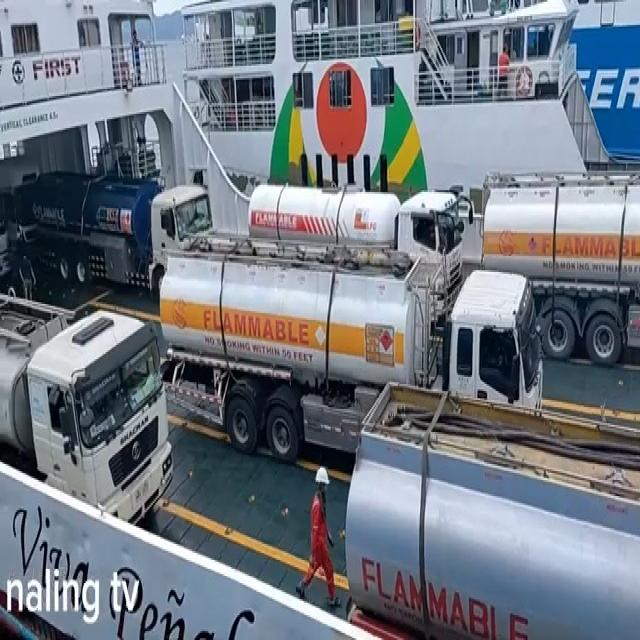truck: (160, 246, 544, 464), (344, 378, 640, 640), (0, 293, 175, 531), (247, 184, 464, 334), (484, 177, 640, 372), (29, 171, 213, 299)
